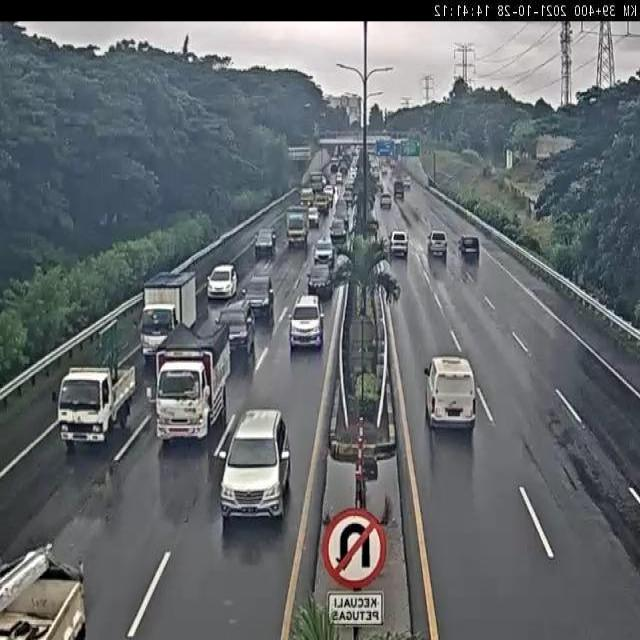Car: (220, 403, 289, 534), (219, 298, 258, 369), (288, 294, 324, 351), (244, 273, 275, 323), (206, 263, 238, 300), (307, 262, 334, 302), (254, 229, 276, 261), (314, 238, 335, 267), (307, 206, 320, 228)
Truck: (49, 354, 135, 451), (122, 265, 203, 366), (143, 353, 220, 458)
Van: (0, 542, 87, 639), (420, 336, 485, 442), (286, 211, 308, 248), (330, 216, 347, 245), (300, 187, 314, 207)
